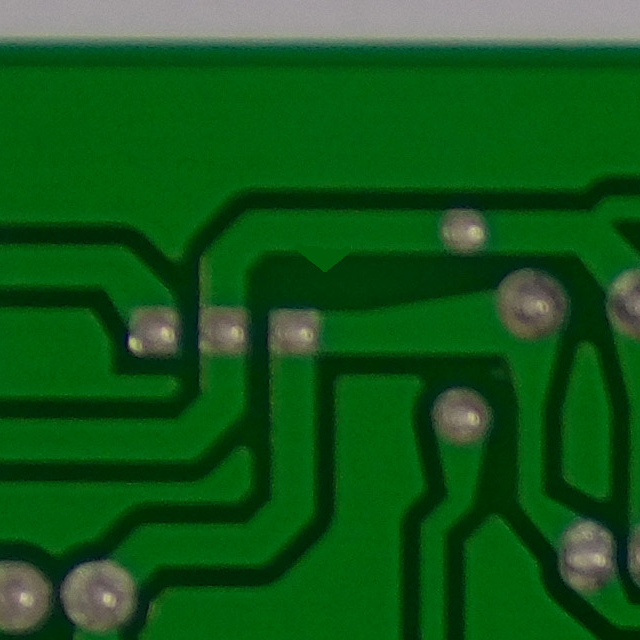spur: (269, 222, 371, 282)
